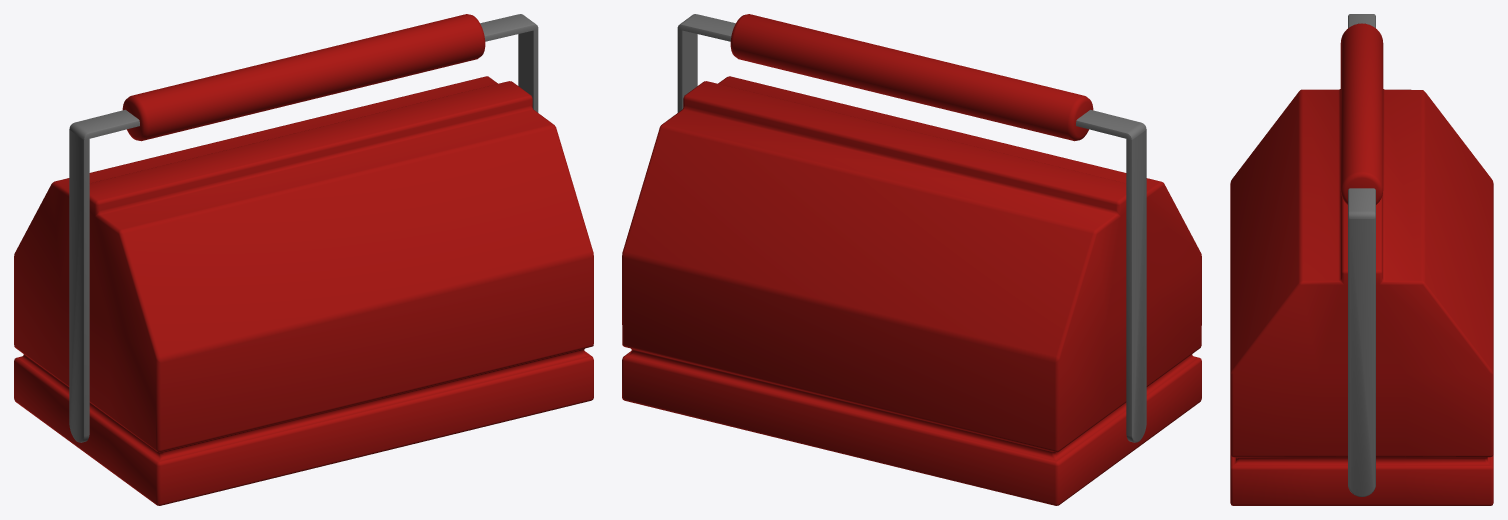
File: Toolbox.fbx
The picture shows the model from 3 angles, left to right: view 1: azimuth 30°, elevation 25°; view 2: azimuth 150°, elevation 25°; view 3: azimuth 270°, elevation 25°; orthographic projection. The views are drawn at different scales.
Visible parts, largest first — view 1: Cube, Circle.001; view 2: Cube, Circle.001; view 3: Cube, Circle.001.
Part boxes in pixels (x1,y1,x2,y2): Cube: [14, 14, 593, 505]; Circle.001: [69, 14, 538, 442]; Cube: [622, 14, 1201, 505]; Circle.001: [677, 14, 1146, 442]; Cube: [1230, 23, 1493, 505]; Circle.001: [1348, 14, 1375, 496].
Bounding box in the file's own units: 323 × 234 × 179.
